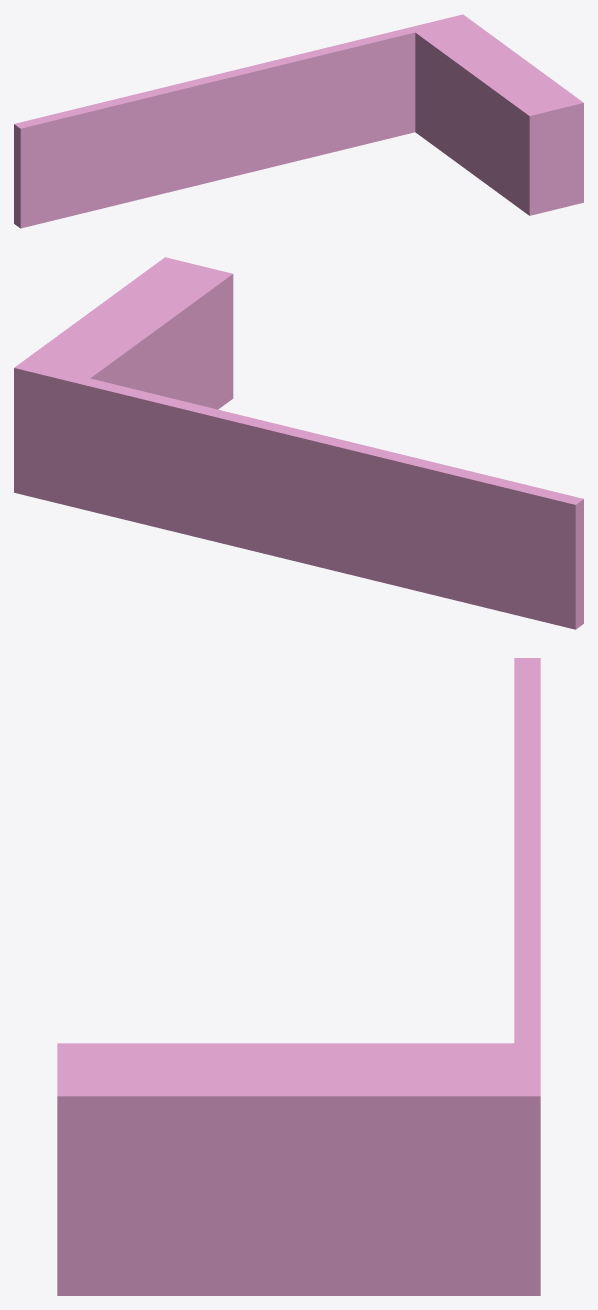
File: OverHead.dae
3 views of the same model, one above another, from view 1: azimuth 30°, elevation 25°; view 2: azimuth 150°, elevation 25°; view 3: azimuth 270°, elevation 25° (orthographic). The views are drawn at different scales.
Parts seen in each view (by area): view 1: Cube.002; view 2: Cube.002; view 3: Cube.002.
Boxes of the visible parts, x1,y1,x2,y2 form: Cube.002: (14, 14, 583, 228); Cube.002: (14, 257, 583, 629); Cube.002: (57, 658, 540, 1295).
Bounding box in the file's own units: 6.79 × 3.17 × 1.44.
